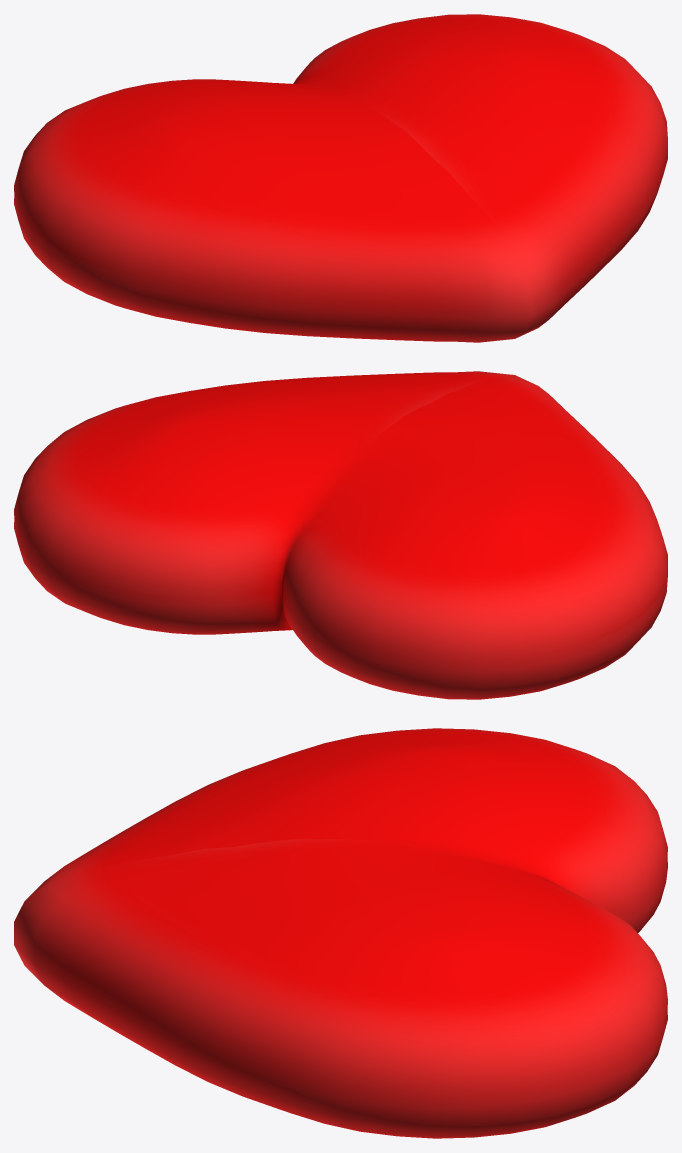
File: heelhart.obj
3 renders of one model, top to bottom at view 1: azimuth 30°, elevation 25°; view 2: azimuth 150°, elevation 25°; view 3: azimuth 270°, elevation 25°, orthographic. The views are drawn at different scales.
Parts seen in each view (by area): view 1: Cartoon_Heart_mesh; view 2: Cartoon_Heart_mesh; view 3: Cartoon_Heart_mesh.
Part boxes in pixels (box(x1,y1,x2,y2)): Cartoon_Heart_mesh: box(14, 14, 667, 342); Cartoon_Heart_mesh: box(14, 371, 667, 699); Cartoon_Heart_mesh: box(14, 728, 667, 1138).
Bounding box in the file's own units: 2.77 × 0.7481 × 2.34.
Materials: 1 (1 with a texture image).
